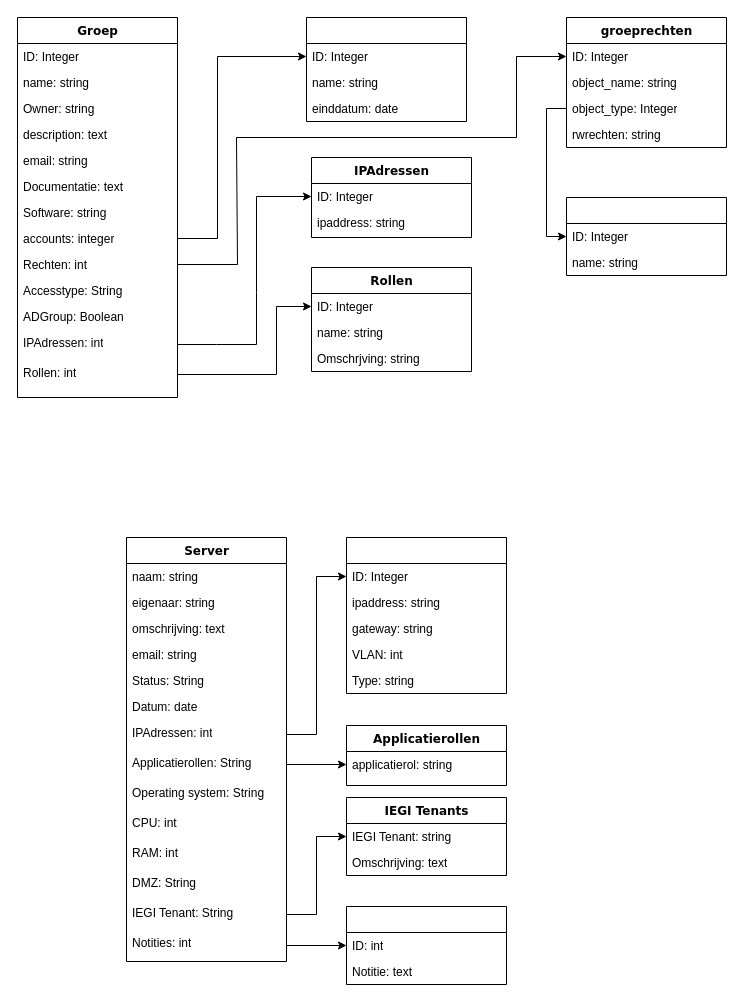
This 744x1005 diagram has some shape labels left out. The box of each missing label's shape, as (x1, y1, x2, y2) in pixels:
Accounts: (306, 16, 466, 122)
IPRegistraton: (346, 536, 506, 694)
Notities: (346, 906, 506, 984)
resource_types: (566, 196, 726, 276)
